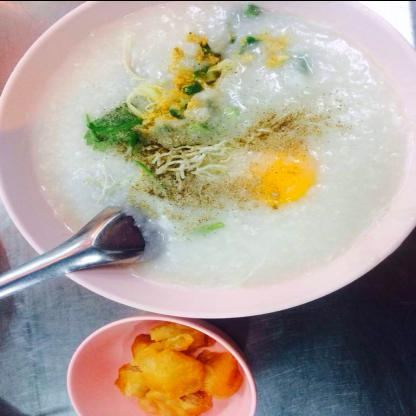Joke: (21, 0, 416, 307)
